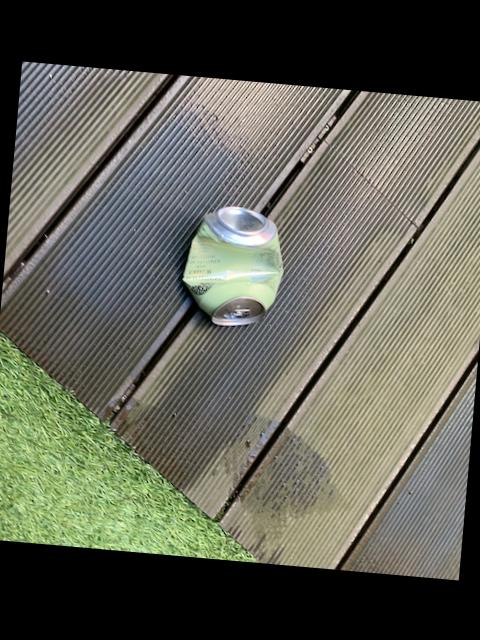metal: (184, 207, 284, 326)
